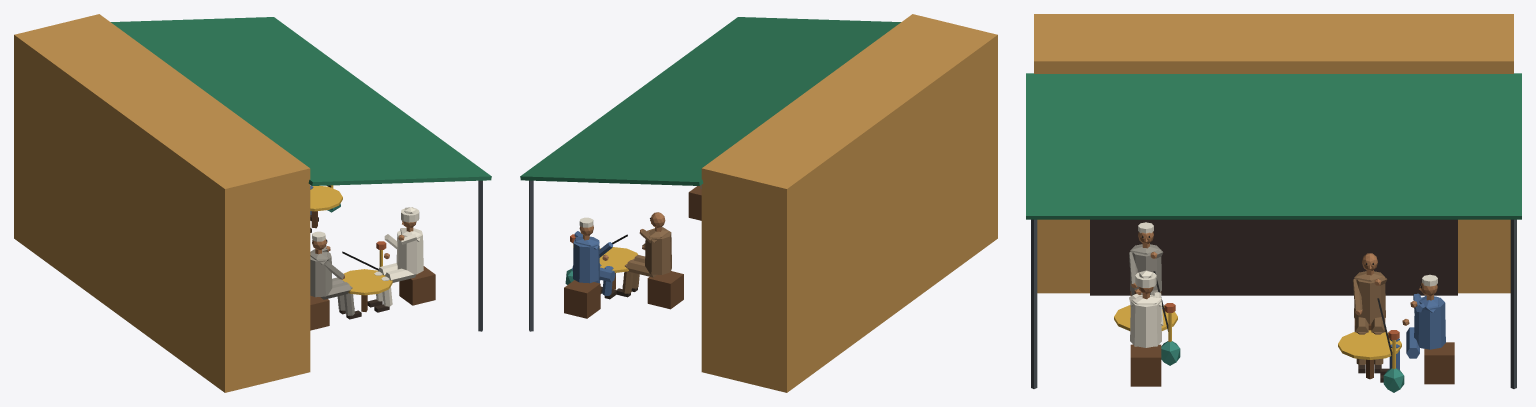
File: vattenpipscafe.glb
The picture shows the model from 3 angles, left to right: view 1: azimuth 30°, elevation 25°; view 2: azimuth 150°, elevation 25°; view 3: azimuth 270°, elevation 25°; orthographic projection. The views are drawn at different scales.
Visible parts, largest first — view 1: vattenpipscafe; view 2: vattenpipscafe; view 3: vattenpipscafe.
Boxes of the visible parts, box(x1,y1,x2,y2) form: vattenpipscafe: box(14, 14, 491, 392); vattenpipscafe: box(520, 14, 997, 392); vattenpipscafe: box(1026, 14, 1521, 392).
Size of the model in its own units: 4.48 by 3.2 by 6.2.
